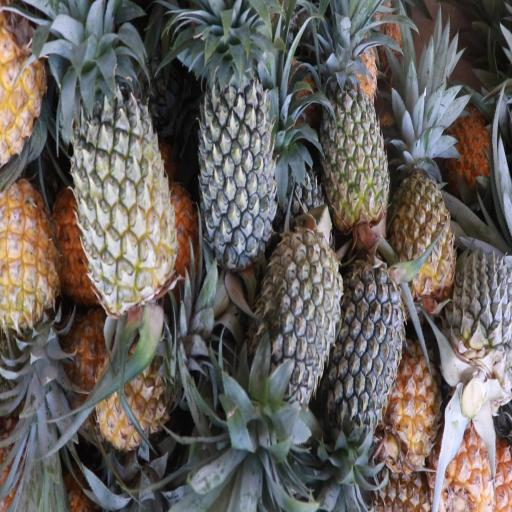------------------------------: (70, 70, 178, 306), (319, 49, 390, 223)
Pineapple - v8 v1: (99, 322, 211, 444), (0, 184, 65, 375), (394, 108, 456, 295), (381, 340, 450, 475)
